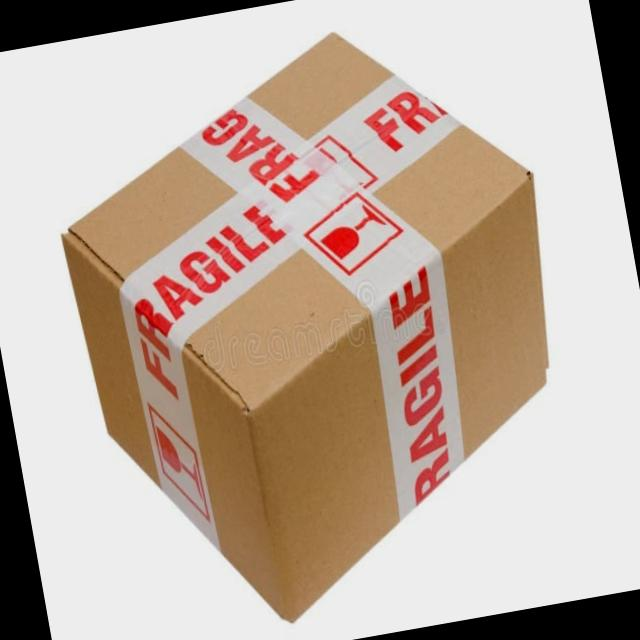fragile_label: (126, 194, 299, 404), (376, 256, 457, 510), (147, 393, 220, 522), (309, 198, 410, 276)
